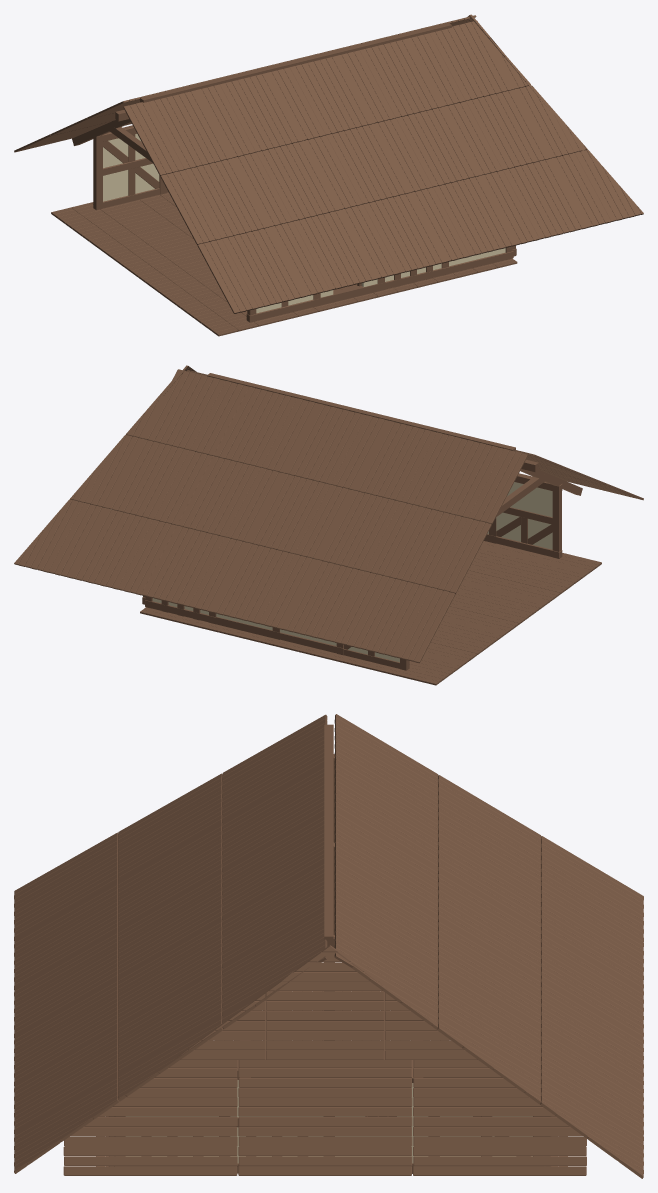
File: tabernaTechoMadera.fbx
3 renders of one model, top to bottom at view 1: azimuth 30°, elevation 25°; view 2: azimuth 150°, elevation 25°; view 3: azimuth 270°, elevation 25°, orthographic. The views are drawn at different scales.
Visible parts, largest first — view 1: floor.013, wall1; view 2: floor.013, wall1; view 3: floor.013, wall1.
Boxes of the visible parts, x1,y1,x2,y2 form: floor.013: [14, 14, 643, 313]; wall1: [51, 22, 517, 336]; floor.013: [14, 365, 643, 663]; wall1: [140, 373, 601, 685]; floor.013: [14, 714, 643, 1178]; wall1: [96, 724, 567, 1173].
Bounding box in the file's own units: 12.01 × 4.99 × 11.3.
